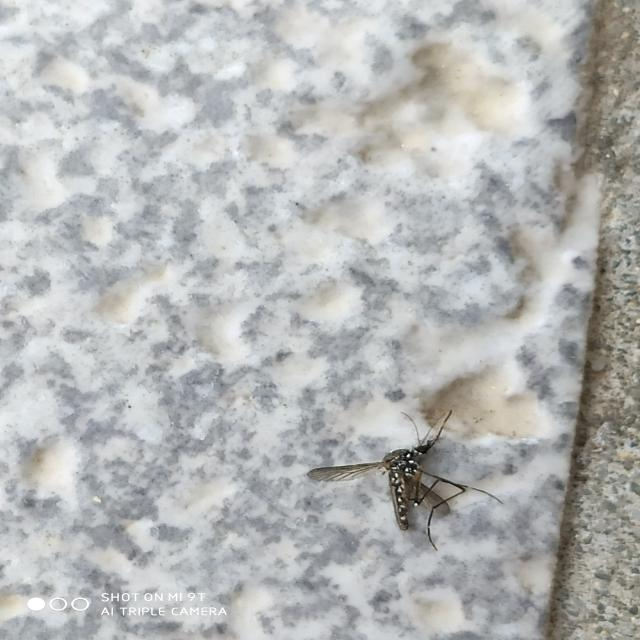albopictus: (308, 403, 502, 546)
